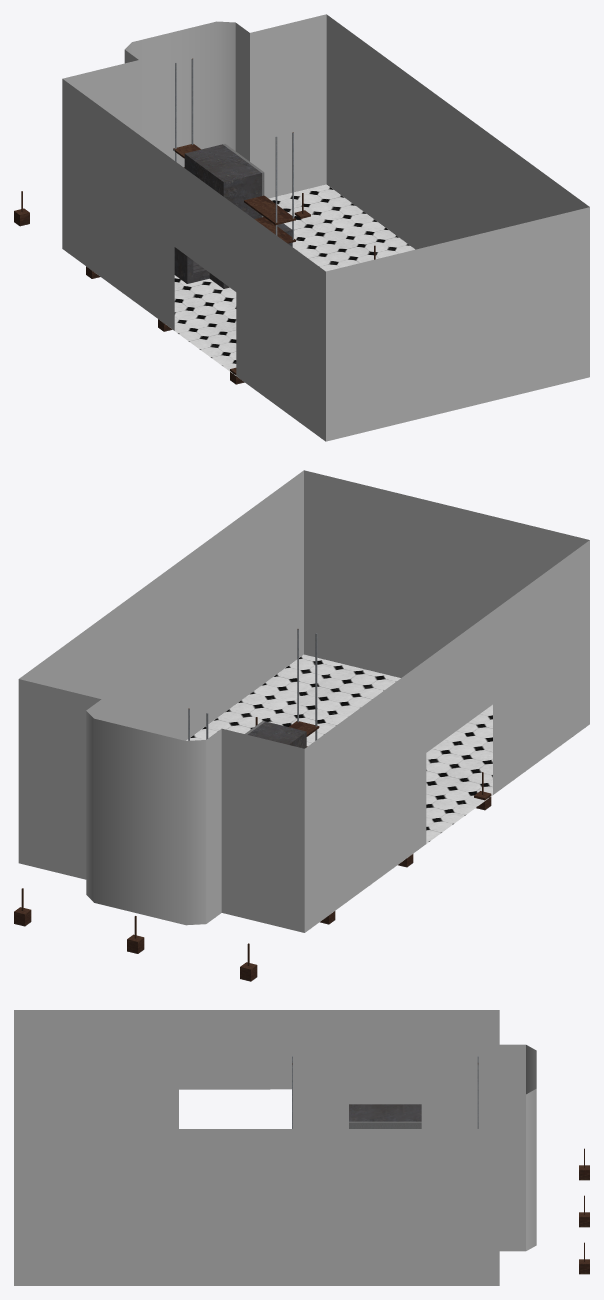
The model's file is WHOLE_Kitchen.fbx.
3 renders of one model, top to bottom at view 1: azimuth 30°, elevation 25°; view 2: azimuth 150°, elevation 25°; view 3: azimuth 270°, elevation 25°, orthographic. The views are drawn at different scales.
Visible parts, largest first — view 1: Floor, Fridge, Hanging shelf, Oven, Hanging lights; view 2: Floor, Hanging lights, Fridge, Hanging shelf; view 3: Floor, Fridge, Hanging lights.
Boxes of the visible parts, left/top/right/bottom form: Floor: left=62, top=14, right=589, bottom=441; Fridge: left=184, top=144, right=264, bottom=288; Hanging shelf: left=173, top=58, right=295, bottom=243; Oven: left=174, top=223, right=292, bottom=283; Hanging lights: left=14, top=191, right=375, bottom=384; Floor: left=18, top=470, right=589, bottom=932; Hanging lights: left=14, top=717, right=491, bottom=981; Fridge: left=245, top=721, right=306, bottom=748; Hanging shelf: left=188, top=629, right=319, bottom=746; Floor: left=14, top=1010, right=536, bottom=1285; Fridge: left=349, top=1104, right=421, bottom=1128; Hanging lights: left=579, top=1148, right=589, bottom=1274.
Bounding box in the file's own units: 3688 × 2516 × 7554.
